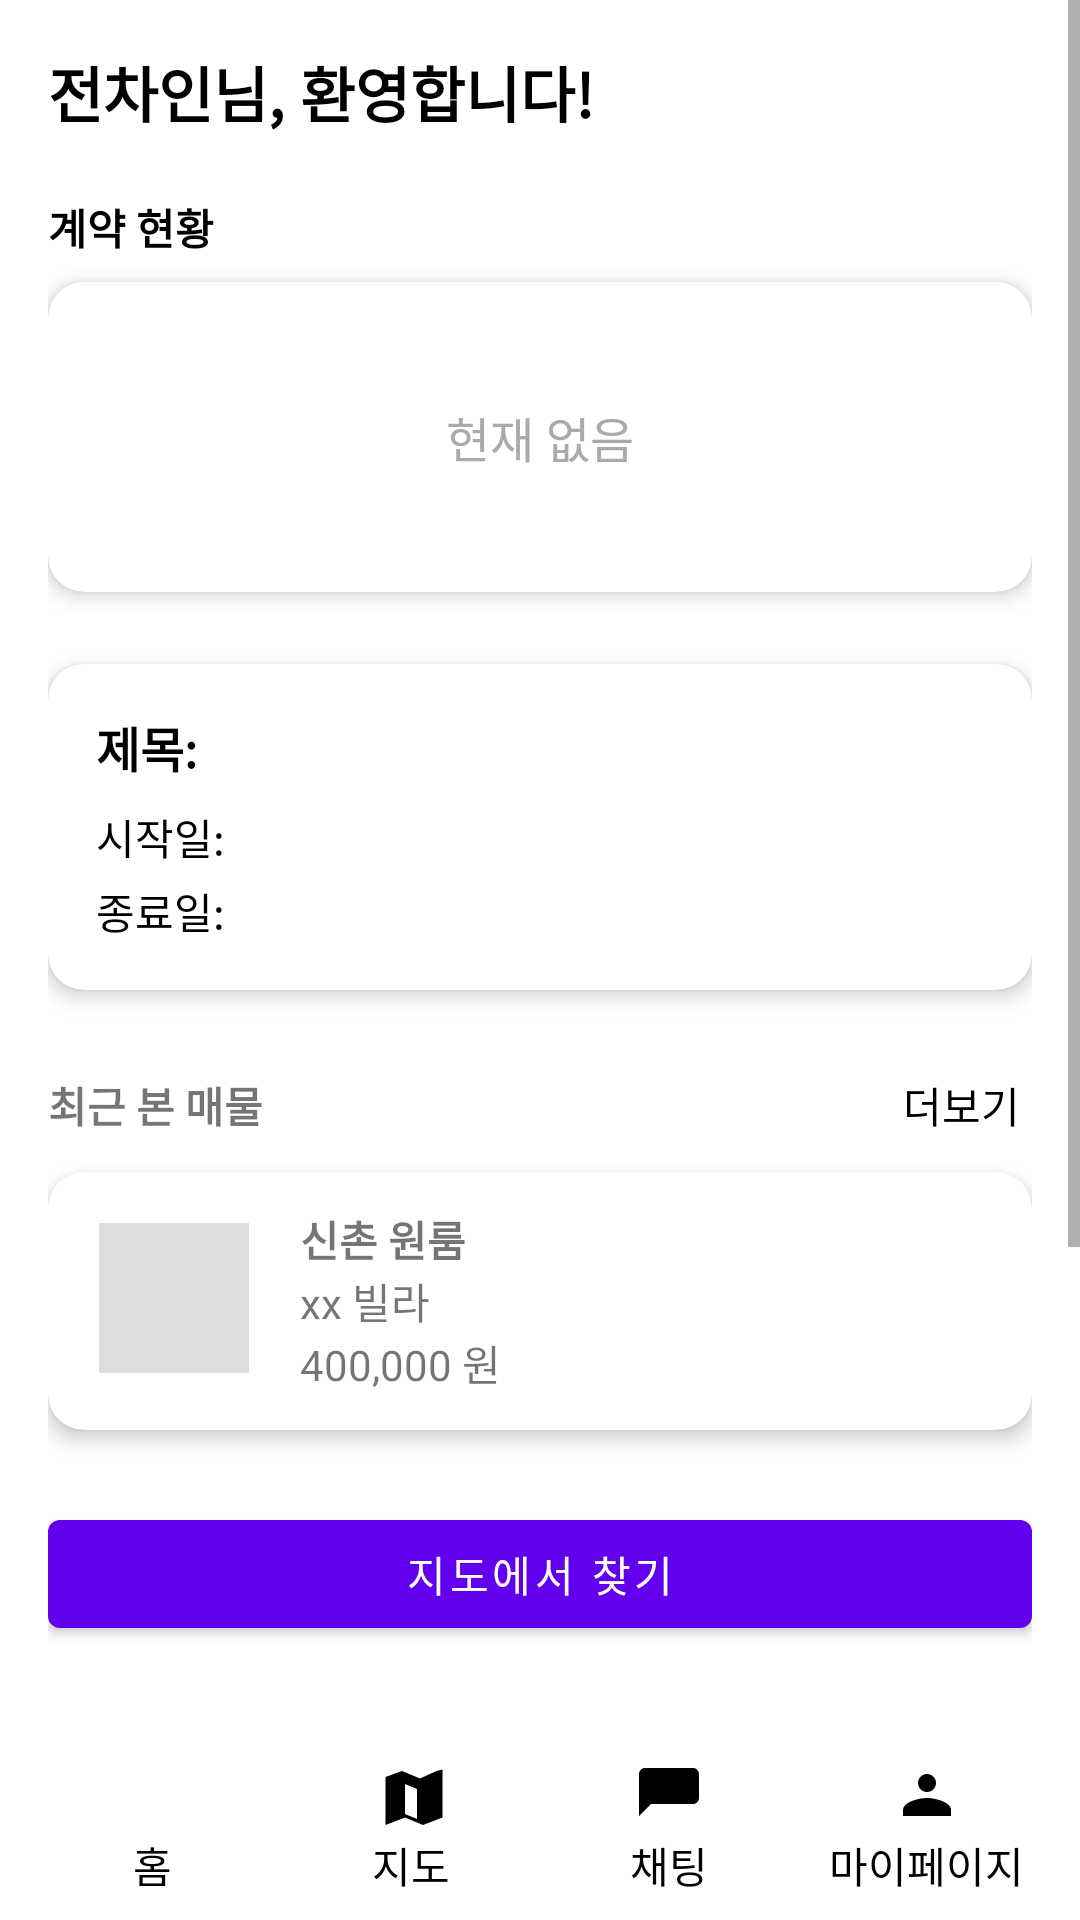

Named icons in this screenshot (1080px x 1920px) and their bounding boxes, (x1, y1, x2, y2):
person: (903, 1774, 951, 1816)
